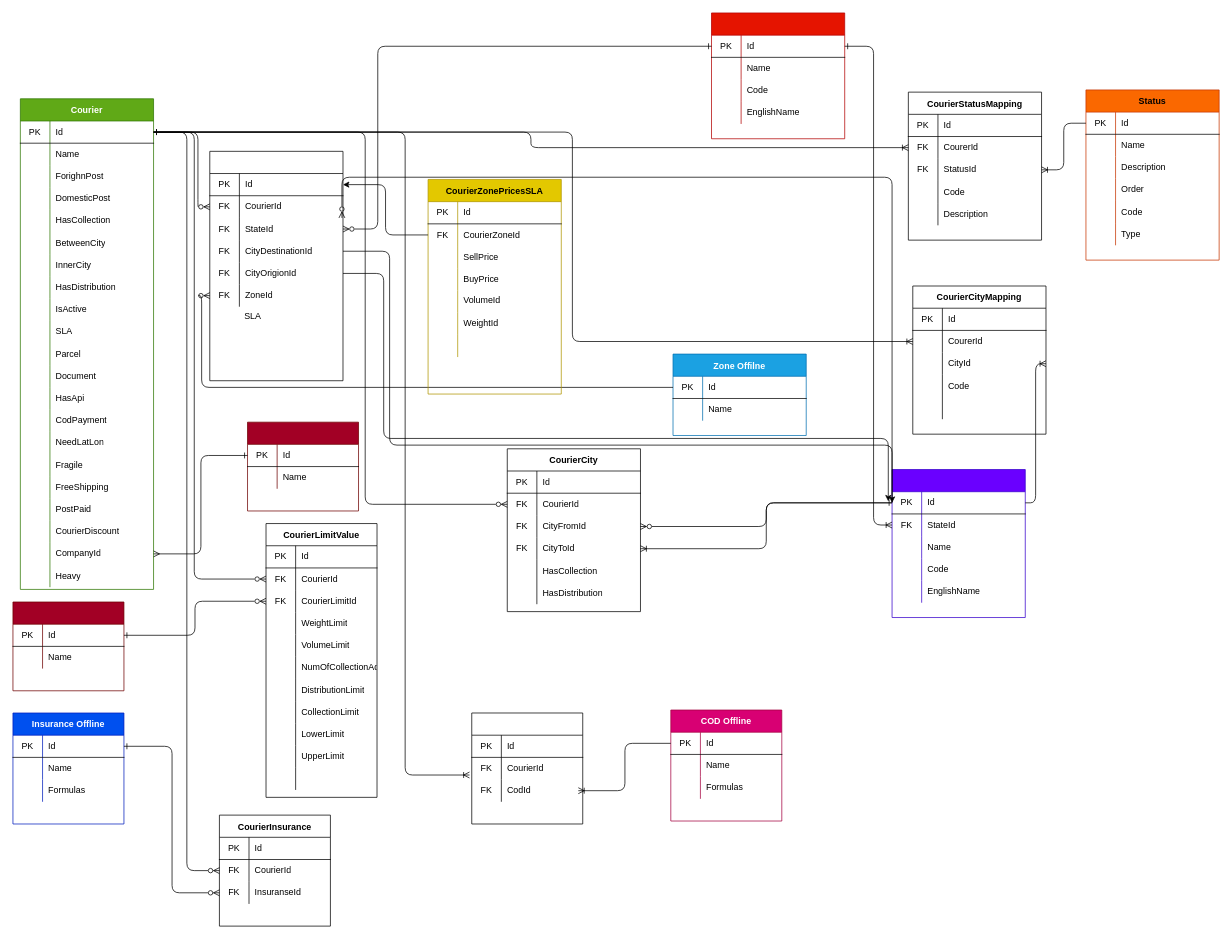
The diagram is 1232 pixels wide and 939 high, and some of its shapes have lost their labels. Here are the shapes that lost their labels. From the top down, the box of each, then its label:
(711, 12, 845, 139): State
(209, 151, 343, 381): CourierZone
(247, 421, 359, 511): Conmpany
(891, 469, 1025, 618): City
(12, 601, 124, 691): CourierLimit
(471, 712, 583, 824): CourierCod
